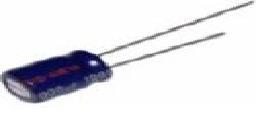Electrolytic-Capacitor: (1, 1, 256, 107)
